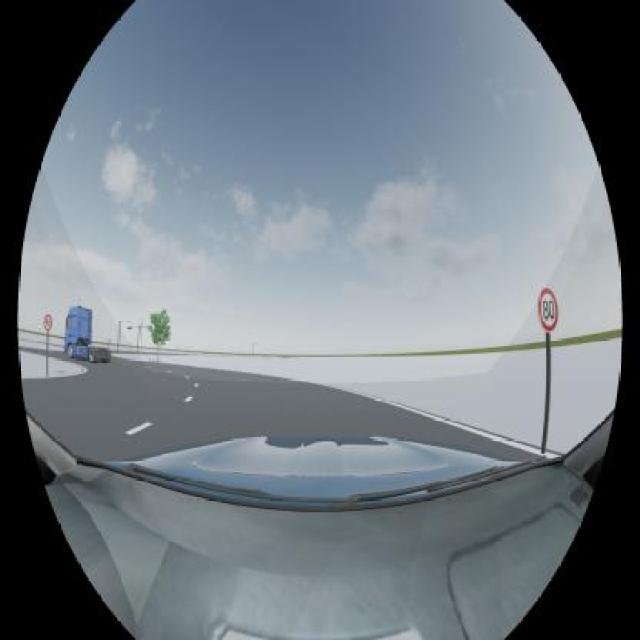forb_speed_over_80: (539, 288, 559, 332)
